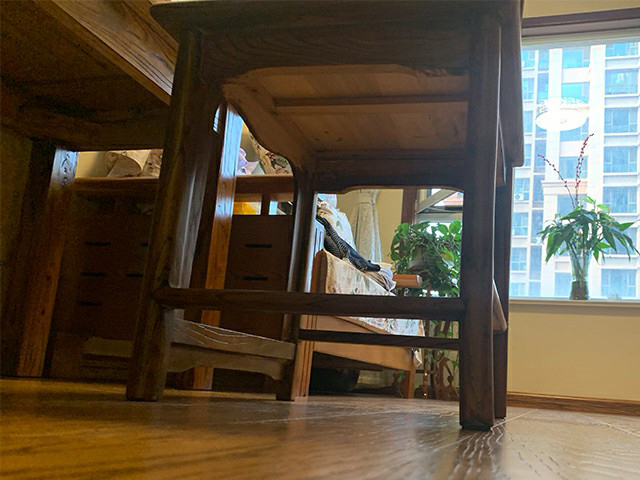sofa: (44, 148, 423, 399)
stool: (125, 1, 526, 429)
